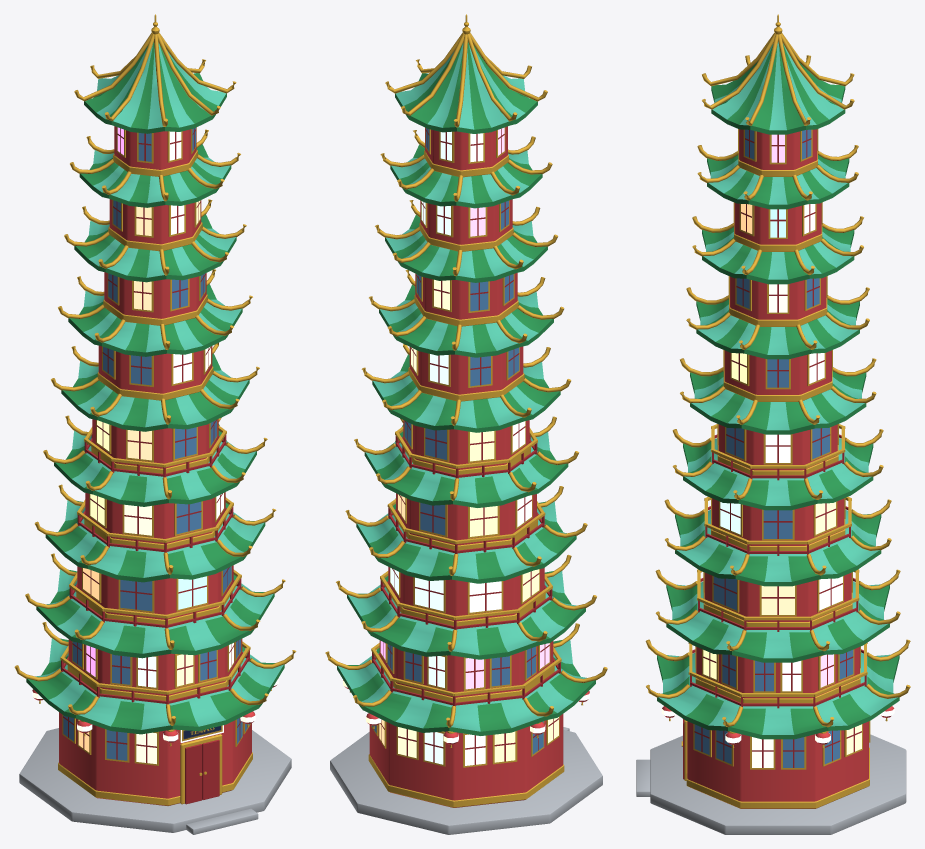
File: pagode_octogonal_9_jade.glb
The picture shows the model from 3 angles, left to right: view 1: azimuth 30°, elevation 25°; view 2: azimuth 150°, elevation 25°; view 3: azimuth 270°, elevation 25°; orthographic projection.
Parts seen in each view (by area): view 1: pagode_octogonal_9_jade; view 2: pagode_octogonal_9_jade; view 3: pagode_octogonal_9_jade.
Part boxes in pixels (x1=…): pagode_octogonal_9_jade: x1=14, y1=14, x2=296, y2=834; pagode_octogonal_9_jade: x1=325, y1=14, x2=607, y2=834; pagode_octogonal_9_jade: x1=636, y1=14, x2=910, y2=834.
Size of the model in its own units: 11.83 by 37.88 by 12.28.
9 materials, 2 textured.
